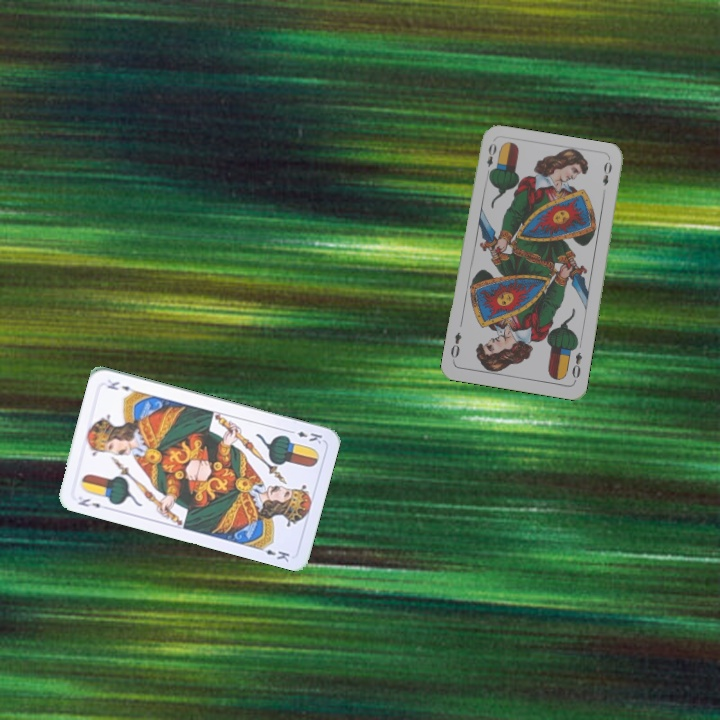EK: (285, 426, 325, 446), (74, 492, 103, 510)
EO: (482, 139, 499, 179), (568, 348, 585, 384)
